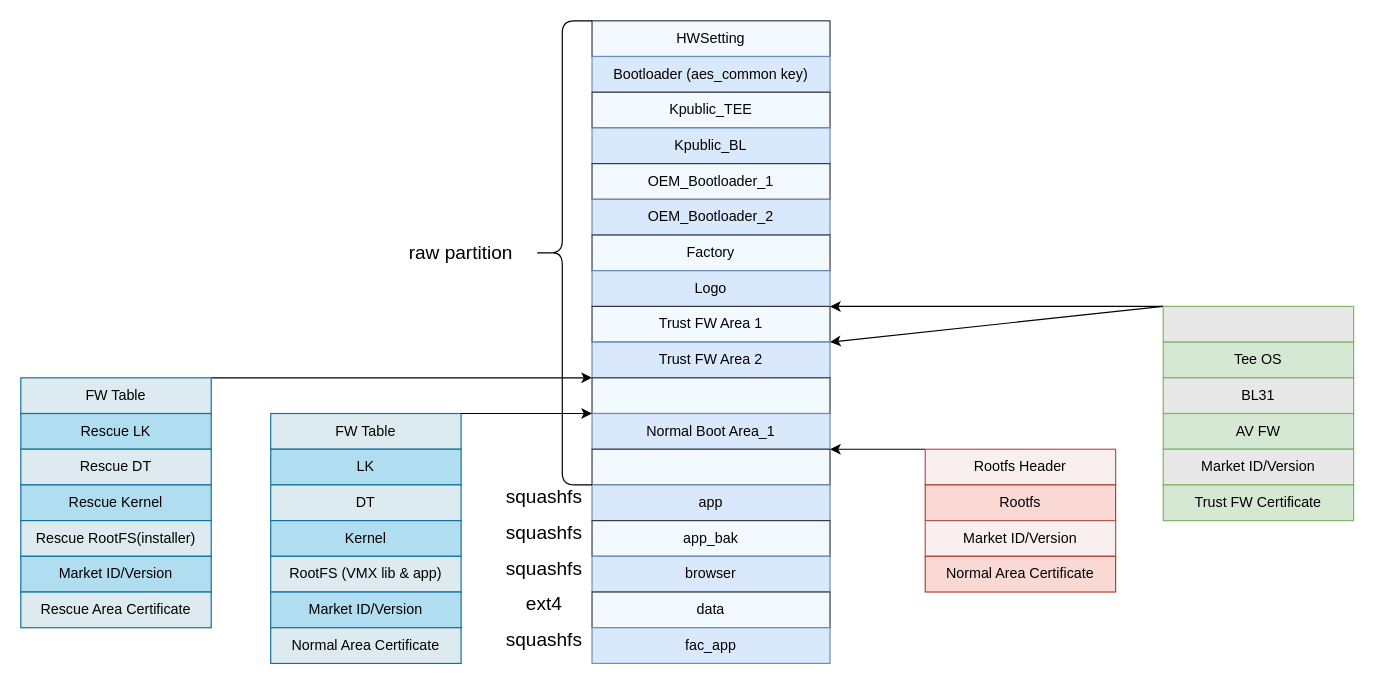
The diagram is 1374 pixels wide and 684 high, and some of its shapes have lost their labels. Each missing label, with the box of its shape:
Normal Boot Area_2: (591, 448, 830, 485)
Rescue Boot Area: (591, 377, 830, 414)
Trust FW Header: (1162, 305, 1354, 342)
